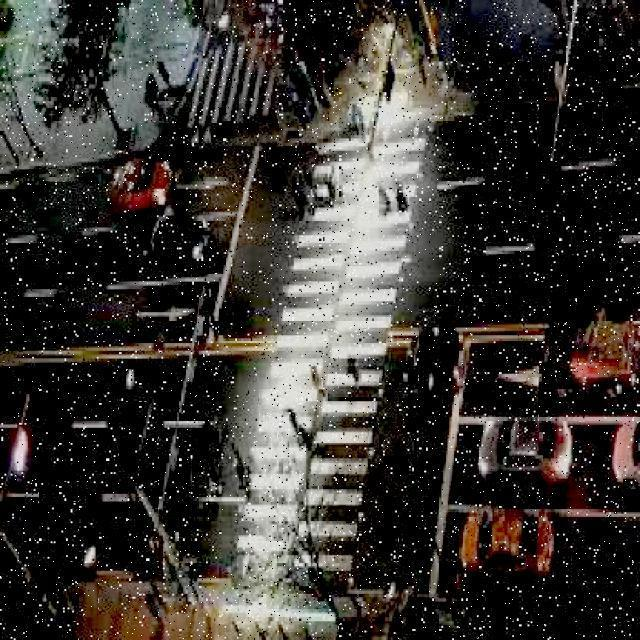Pedestrian crosswalk: (226, 112, 432, 606), (173, 31, 295, 151)
